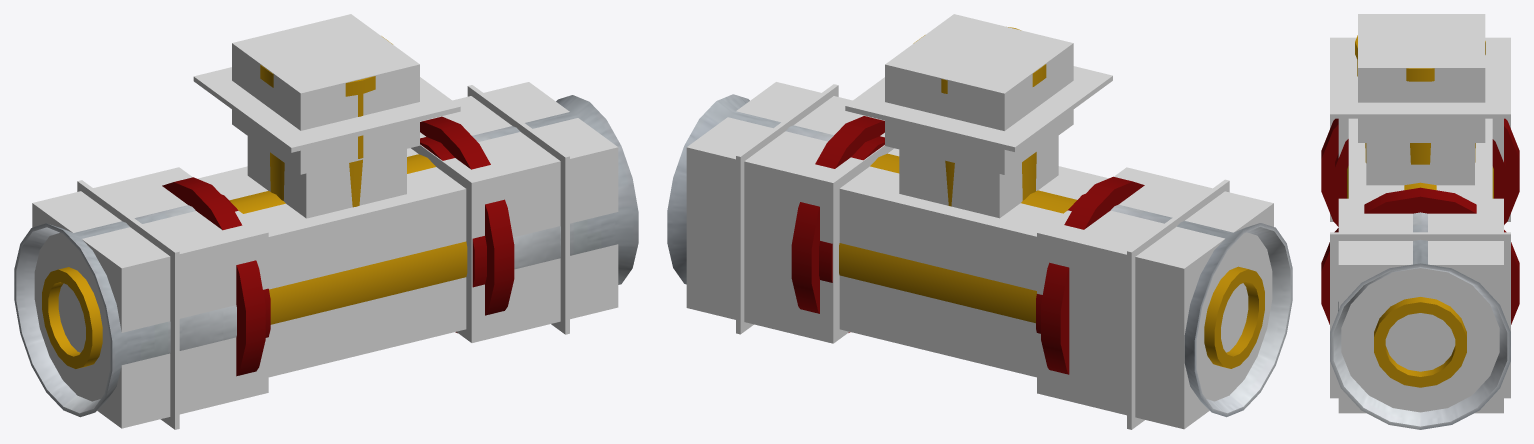
3 views of the same model, side by side, from view 1: azimuth 30°, elevation 25°; view 2: azimuth 150°, elevation 25°; view 3: azimuth 270°, elevation 25° (orthographic). The views are drawn at different scales.
Parts seen in each view (by area): view 1: tronik_32х1/2(vn)х32_COL_, tronik_32х1/2х32_vn_, Box001_est_015, Box001_est_014, Box001_est_013; view 2: tronik_32х1/2(vn)х32_COL_, tronik_32х1/2х32_vn_, Box001_est_015, Box001_est_013, Box001_est_014; view 3: tronik_32х1/2(vn)х32_COL_, tronik_32х1/2х32_vn_, Box001_est_015, Box001_est_013.
Boxes of the visible parts, box(x1,y1,x2,y2) form: tronik_32х1/2(vn)х32_COL_: box(32, 14, 618, 428); tronik_32х1/2х32_vn_: box(14, 36, 638, 417); Box001_est_015: box(193, 67, 460, 152); Box001_est_014: box(77, 180, 179, 429); Box001_est_013: box(467, 85, 569, 334); tronik_32х1/2(vn)х32_COL_: box(686, 14, 1273, 429); tronik_32х1/2х32_vn_: box(667, 27, 1292, 417); Box001_est_015: box(845, 66, 1112, 151); Box001_est_013: box(736, 84, 838, 334); Box001_est_014: box(1127, 179, 1229, 429); tronik_32х1/2(vn)х32_COL_: box(1338, 14, 1503, 413); tronik_32х1/2х32_vn_: box(1321, 35, 1519, 429); Box001_est_015: box(1330, 37, 1510, 118); Box001_est_013: box(1330, 232, 1510, 398).
Size of the model in its own units: 0.1119 by 0.0609 by 0.0395.
3 materials, 1 textured.
